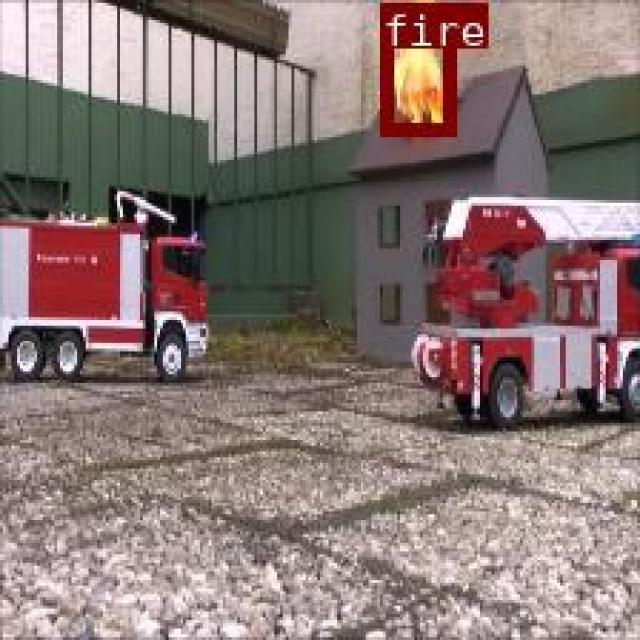fire: (378, 2, 454, 133)
